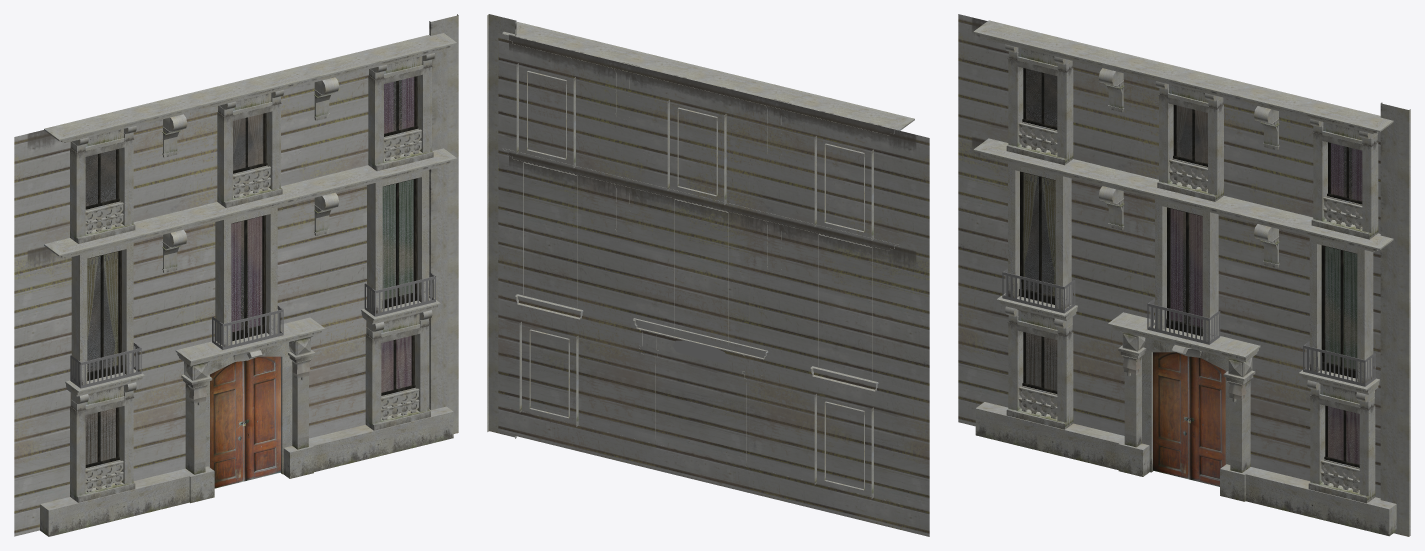
File: ParisBuilding02.fbx
3 views of the same model, side by side, from view 1: azimuth 30°, elevation 25°; view 2: azimuth 150°, elevation 25°; view 3: azimuth 330°, elevation 25° (orthographic). The views are drawn at different scales.
Parts seen in each view (by area): view 1: pPlane7, pCube56, polySurface638, polySurface402, pipe:polySurface370, polySurface24, polySurface375, polySurface378 (×2), polySurface390, polySurface426, polySurface423, polySurface434 (+32 smaller); view 2: pPlane7, polySurface402, pCube56, polySurface434, polySurface411, polySurface396, polySurface391, polySurface420, polySurface22; view 3: pPlane7, pCube56, polySurface638, polySurface402, pipe:polySurface370, polySurface375, polySurface24, polySurface378 (×2), polySurface426, polySurface390, polySurface423, polySurface391 (+31 smaller).
Part boxes in pixels (x1,y1,x2,y2): pPlane7: (14,69,429,536); pCube56: (429,14,458,433); polySurface638: (210,356,280,488); polySurface402: (44,33,457,142); pipe:polySurface370: (44,148,457,258); polySurface24: (40,466,214,536); polySurface375: (283,406,453,478); polySurface378 (×2): (87,251,440,372); polySurface390: (71,242,133,385); polySurface426: (367,170,429,313); polySurface423: (215,207,277,346); polySurface434: (365,326,430,430); pPlane7: (498,33,929,536); polySurface402: (502,22,914,135); pCube56: (487,14,516,438); polySurface434: (519,321,578,426); polySurface411: (667,100,726,204); polySurface396: (814,136,873,240); polySurface391: (814,394,873,498); polySurface420: (516,63,575,167); polySurface22: (672,340,728,363); pPlane7: (958,14,1380,498); pCube56: (1380,102,1410,536); polySurface638: (1153,352,1225,486); polySurface402: (973,20,1393,133); pipe:polySurface370: (973,138,1393,251); polySurface375: (1220,464,1396,536); polySurface24: (975,402,1149,476); polySurface378 (×2): (1023,173,1379,394); polySurface426: (1309,236,1373,383); polySurface390: (1008,163,1071,310); polySurface423: (1155,199,1218,341); polySurface391: (1006,322,1073,429).
Size of the model in its own units: 1031 by 930 by 70.4.
